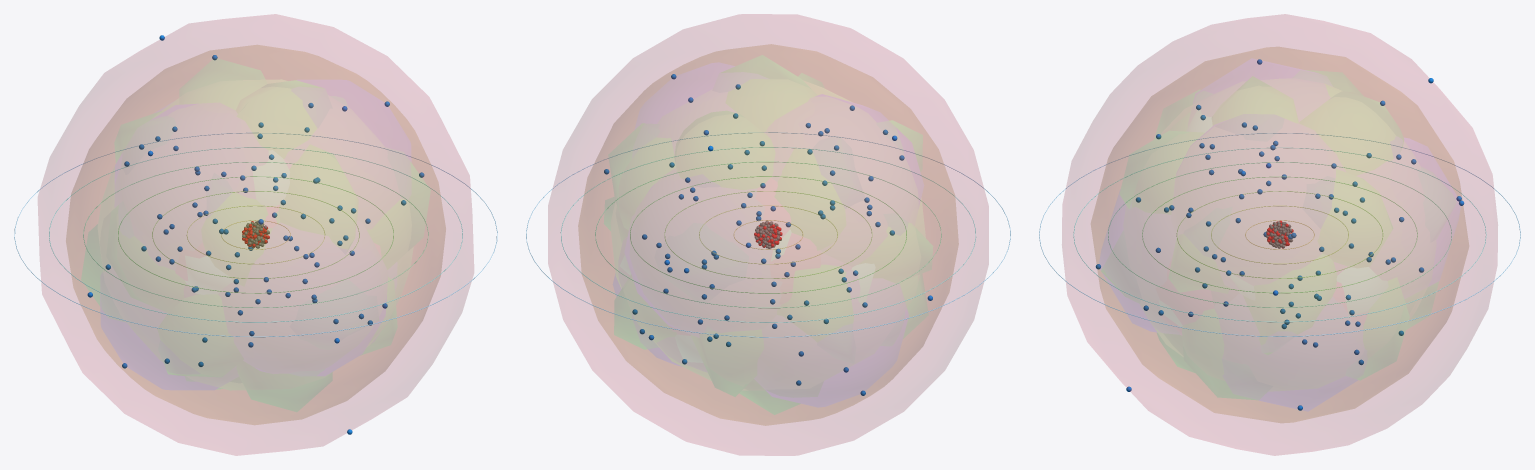
3 renders of one model, left to right at view 1: azimuth 30°, elevation 25°; view 2: azimuth 150°, elevation 25°; view 3: azimuth 270°, elevation 25°, orthographic.
Parts seen in each view (by area): view 1: Orbital_7s_0, Orbital_6s_0, Orbital_6d_0, Orbital_6d_3, Nivel_n7, Orbital_6d_2, Orbital_5s_0, Nivel_n6, Nivel_n5, Orbital_6d_4, Nivel_n4; view 2: Orbital_7s_0, Orbital_6s_0, Orbital_6d_1, Orbital_6d_2, Orbital_6d_3, Nivel_n7, Orbital_6d_4, Nivel_n6, Nivel_n5, Orbital_5s_0, Nivel_n4; view 3: Orbital_7s_0, Orbital_6s_0, Orbital_6d_4, Orbital_6d_3, Nivel_n7, Nivel_n6, Orbital_6d_2, Orbital_6d_0, Nivel_n5, Nivel_n4.
Boxes of the visible parts, x1,y1,x2,y2 form: Orbital_7s_0: (38,14,473,455); Orbital_6s_0: (66,45,445,424); Orbital_6d_0: (180,59,331,411); Orbital_6d_3: (81,163,430,304); Nivel_n7: (14,132,497,337); Orbital_6d_2: (115,112,396,376); Orbital_5s_0: (98,80,412,389); Nivel_n6: (49,147,462,322); Nivel_n5: (83,162,428,307); Orbital_6d_4: (107,151,351,302); Nivel_n4: (118,176,393,293); Orbital_7s_0: (548,14,988,455); Orbital_6s_0: (578,44,958,425); Orbital_6d_1: (722,55,809,414); Orbital_6d_2: (609,124,927,337); Orbital_6d_3: (614,121,922,348); Nivel_n7: (526,132,1010,337); Orbital_6d_4: (604,73,932,396); Nivel_n6: (560,147,976,322); Nivel_n5: (595,161,941,308); Orbital_5s_0: (611,82,924,389); Nivel_n4: (630,176,906,293); Orbital_7s_0: (1062,14,1497,455); Orbital_6s_0: (1091,47,1468,422); Orbital_6d_4: (1120,131,1438,354); Orbital_6d_3: (1155,90,1408,379); Nivel_n7: (1039,133,1520,336); Nivel_n6: (1073,147,1486,322); Orbital_6d_2: (1183,70,1392,399); Orbital_6d_0: (1157,92,1403,372); Nivel_n5: (1108,162,1451,307); Nivel_n4: (1142,176,1417,293).
Bounding box in the file's own units: 2.1 × 1.93 × 2.1.
